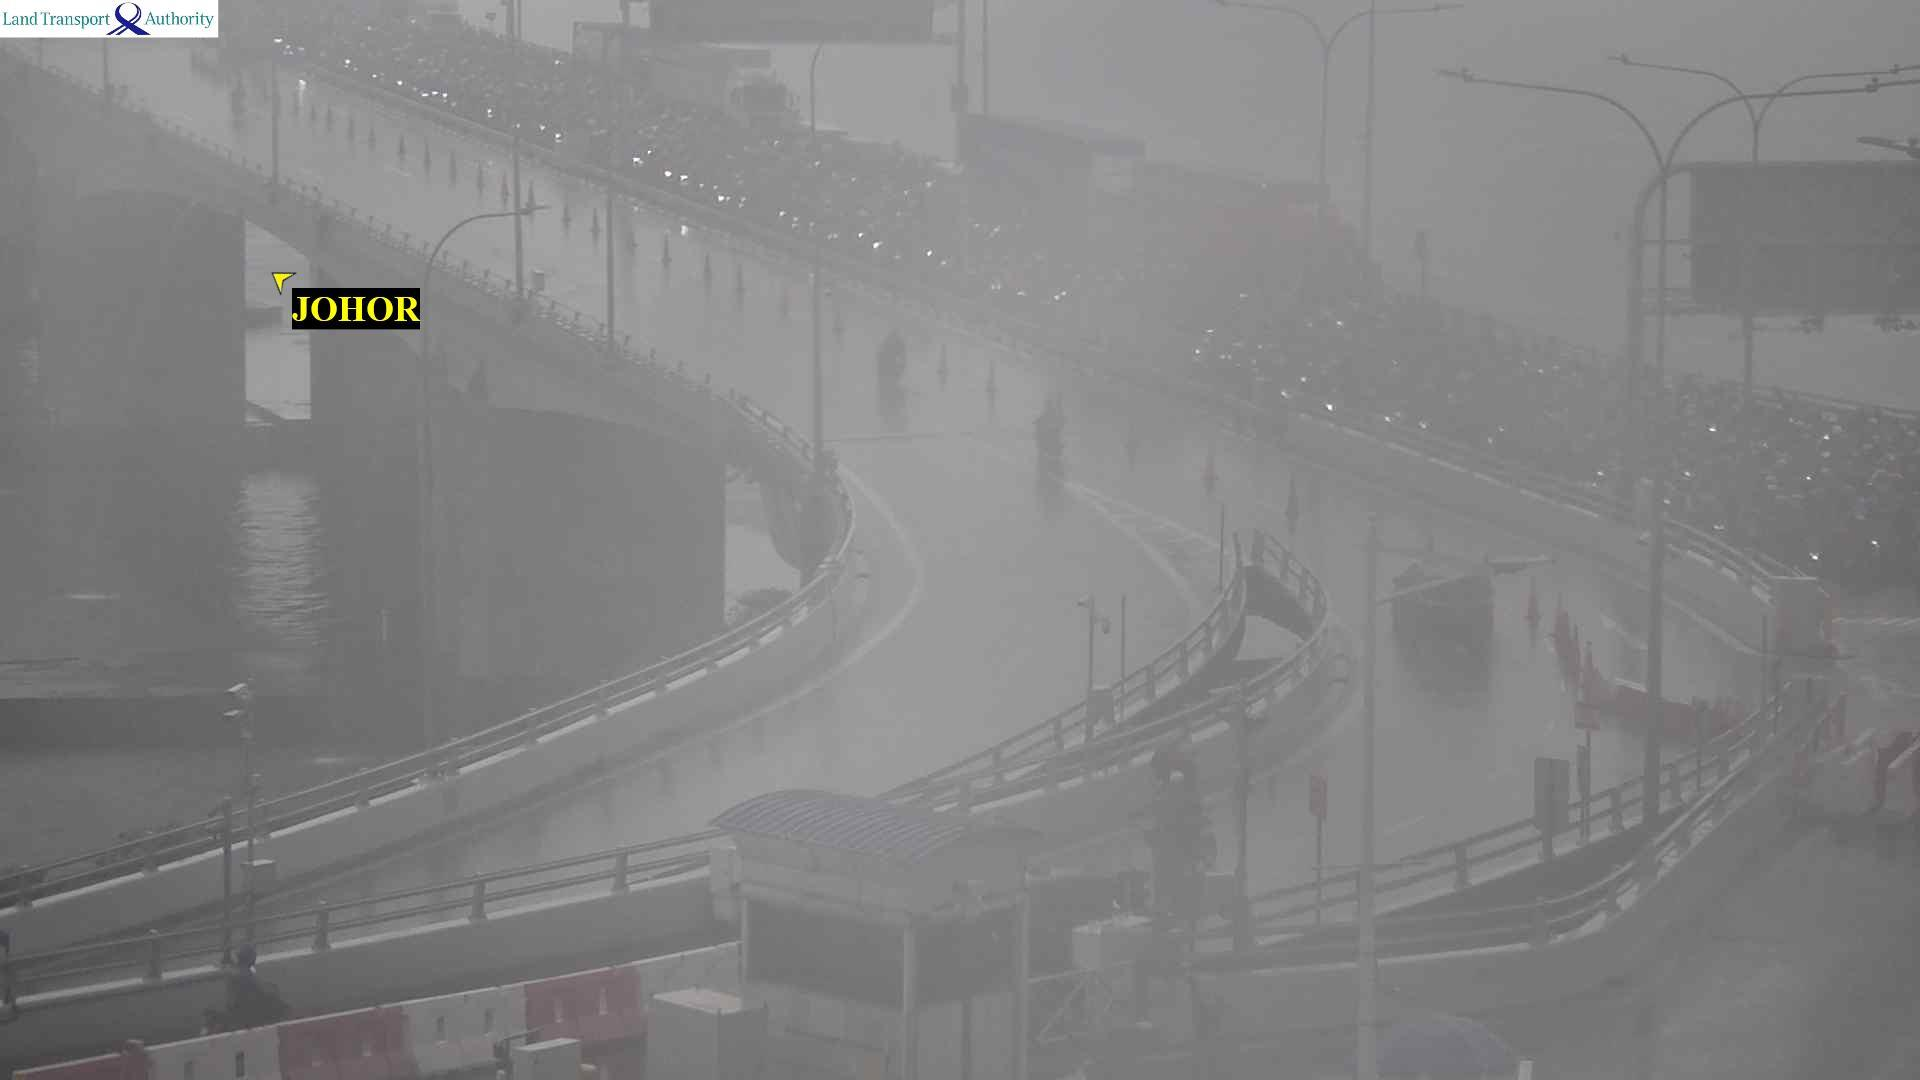vehicle-secondlink-johor: (1400, 555, 1491, 641), (874, 319, 909, 382), (1038, 390, 1067, 447), (676, 219, 695, 249)
vehicle-secondlink-singapore: (576, 23, 789, 140), (970, 115, 1141, 238)
